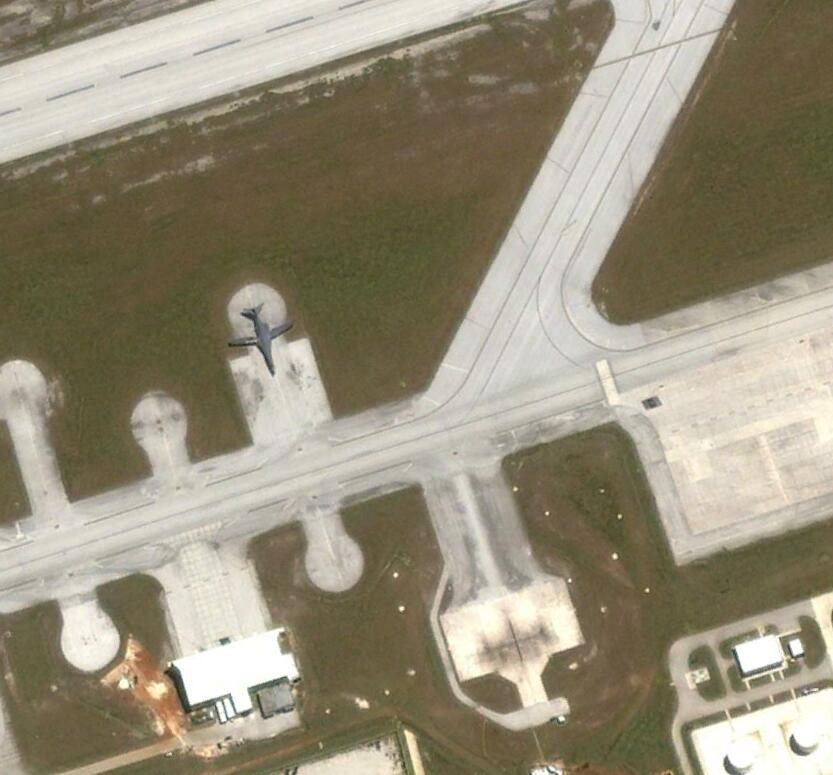A10: (225, 302, 297, 379)
